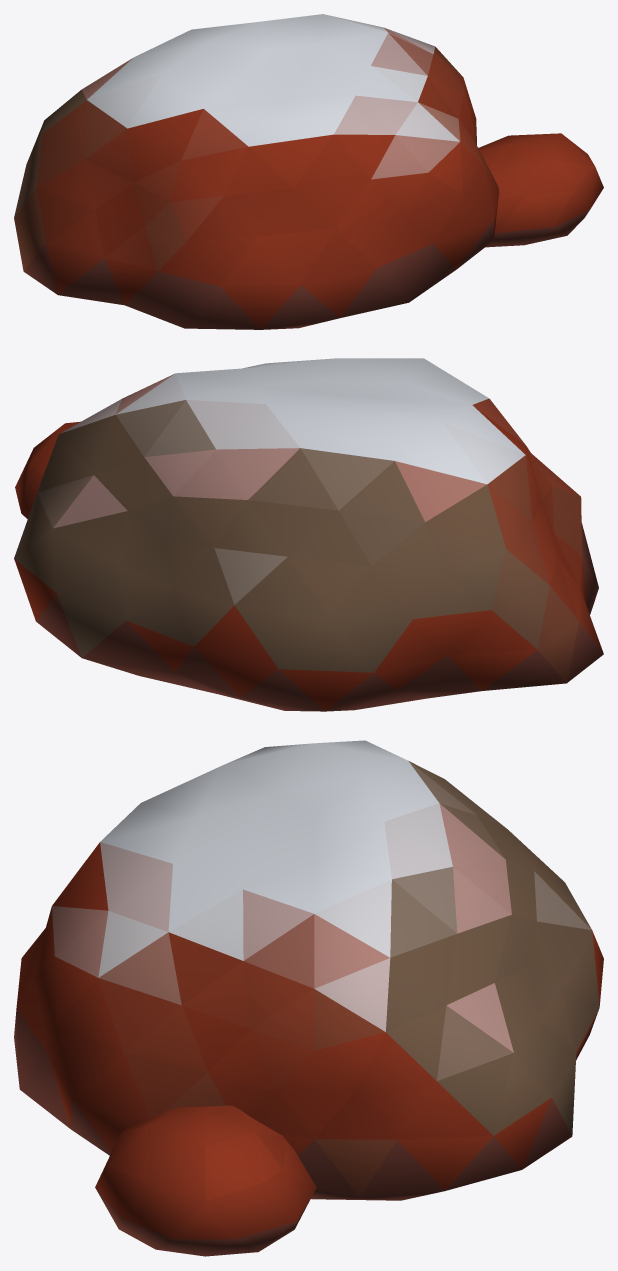
Rendered from red_ochre_rock.glb.
The picture shows the model from 3 angles, top to bottom: view 1: azimuth 30°, elevation 25°; view 2: azimuth 150°, elevation 25°; view 3: azimuth 270°, elevation 25°; orthographic projection. The views are drawn at different scales.
Visible parts, largest first — view 1: red_ochre_rock; view 2: red_ochre_rock; view 3: red_ochre_rock.
Part boxes in pixels (box(x1,y1,x2,y2)): red_ochre_rock: box(14, 14, 603, 329); red_ochre_rock: box(14, 358, 603, 711); red_ochre_rock: box(14, 740, 603, 1256).
Size of the model in its own units: 0.3723 by 0.1359 by 0.2706.
